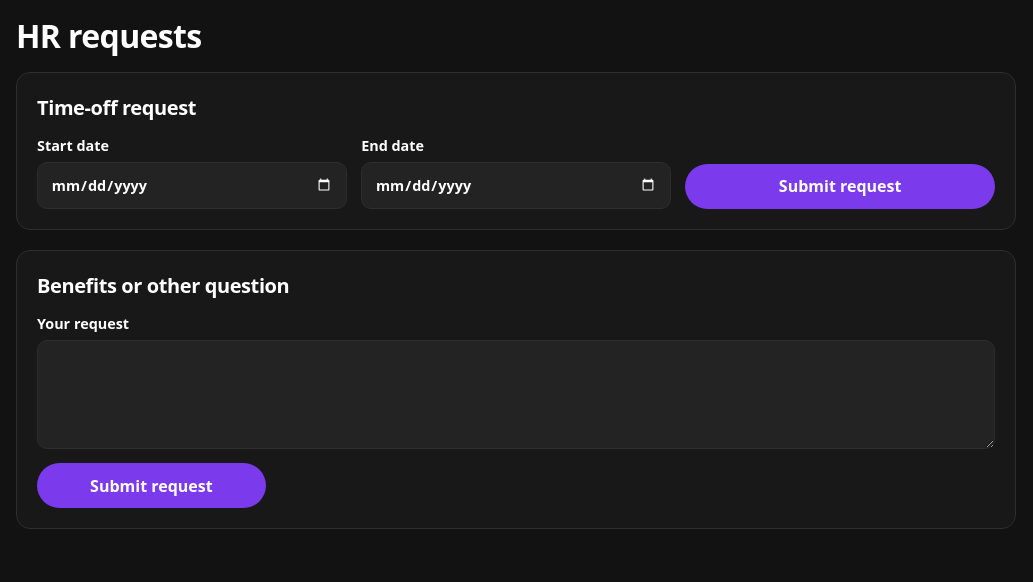
Test case: HrRequestsPage › submits a free-text HR request and confirms it as submitted
Type "What dental plans are offered?" into the text box with test id "inquiry-prompt" at (516,394), box [37,340,995,449]
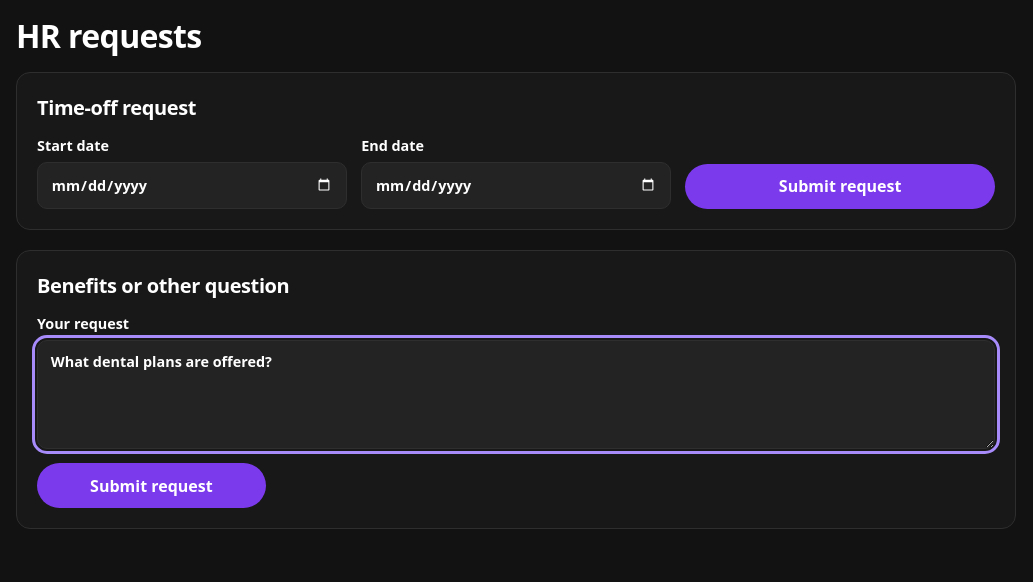
Click the button with test id "inquiry-submit" at (151,486), box [37,463,266,508]
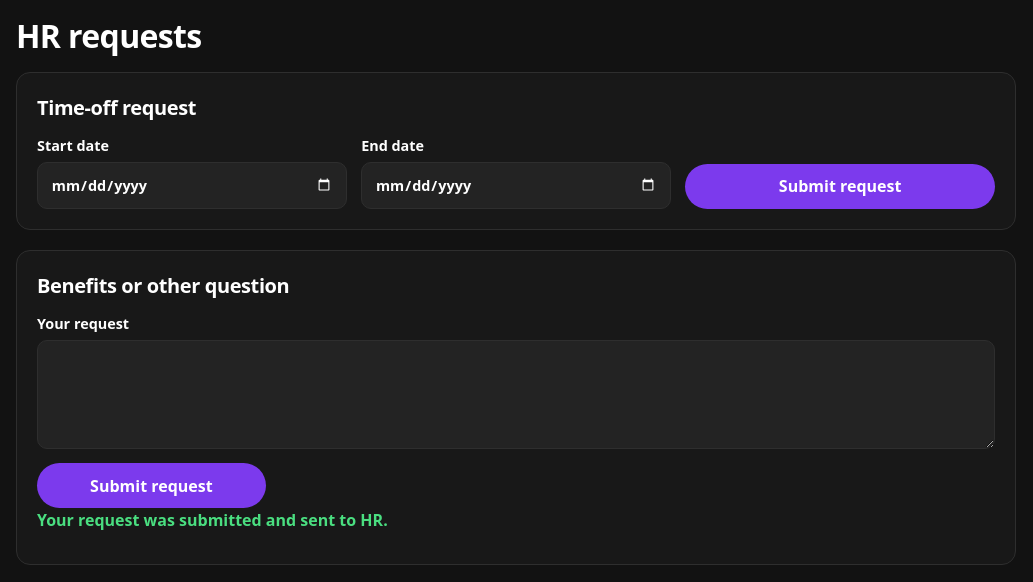
Expected: the text with test id "inquiry-success" shows "submitted", [37,509,388,531]
